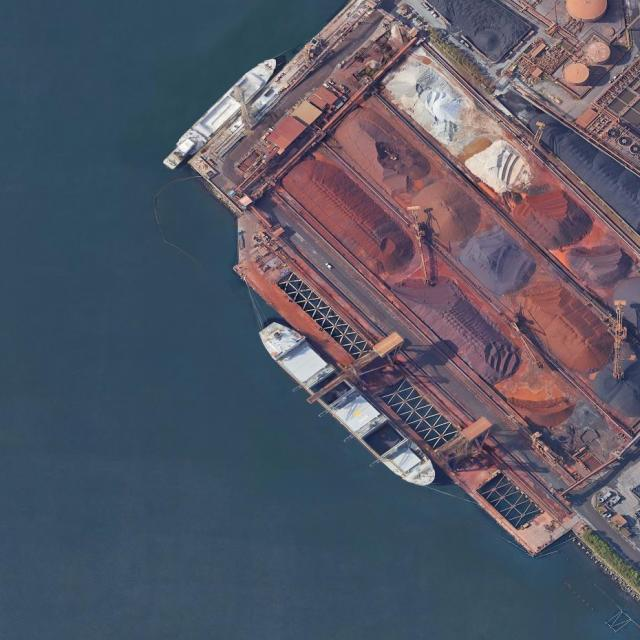Cargo: (250, 309, 446, 502)
Other Ship: (175, 48, 284, 160), (160, 132, 200, 173)
